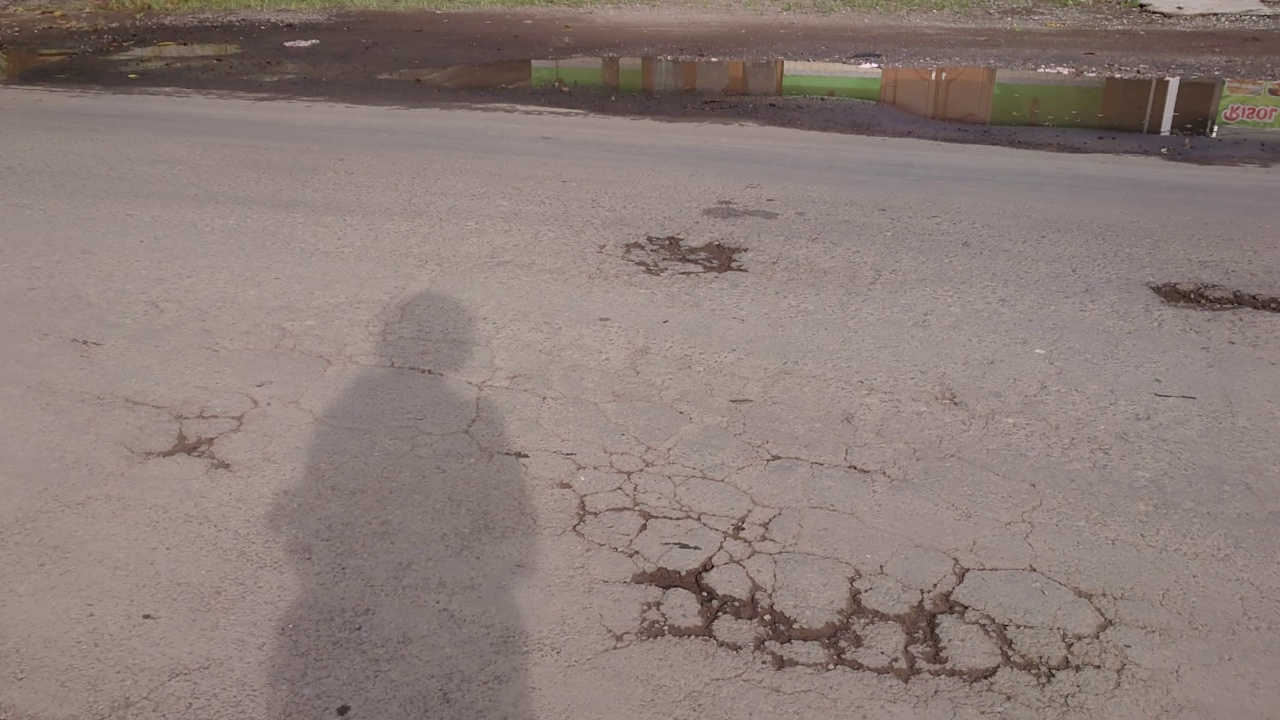Retak: (570, 491, 1133, 706), (595, 232, 757, 282), (168, 409, 239, 476)
